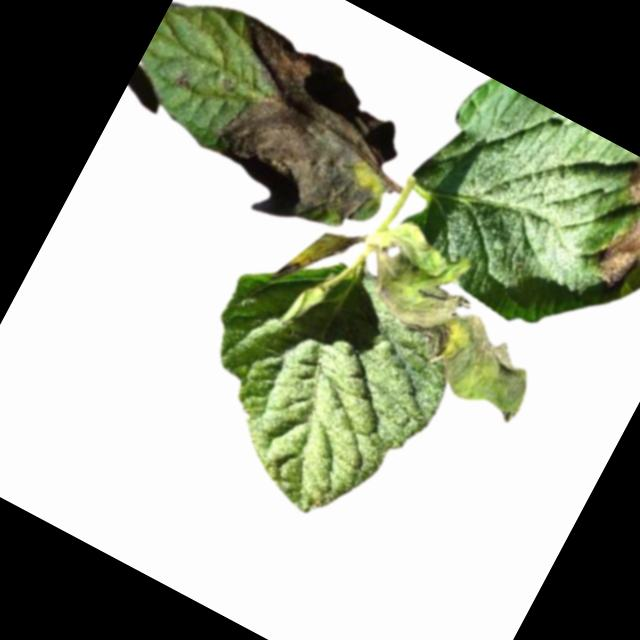Late_blight: (167, 14, 425, 259), (335, 213, 577, 426), (588, 205, 640, 302), (614, 155, 640, 220), (170, 70, 194, 95)
